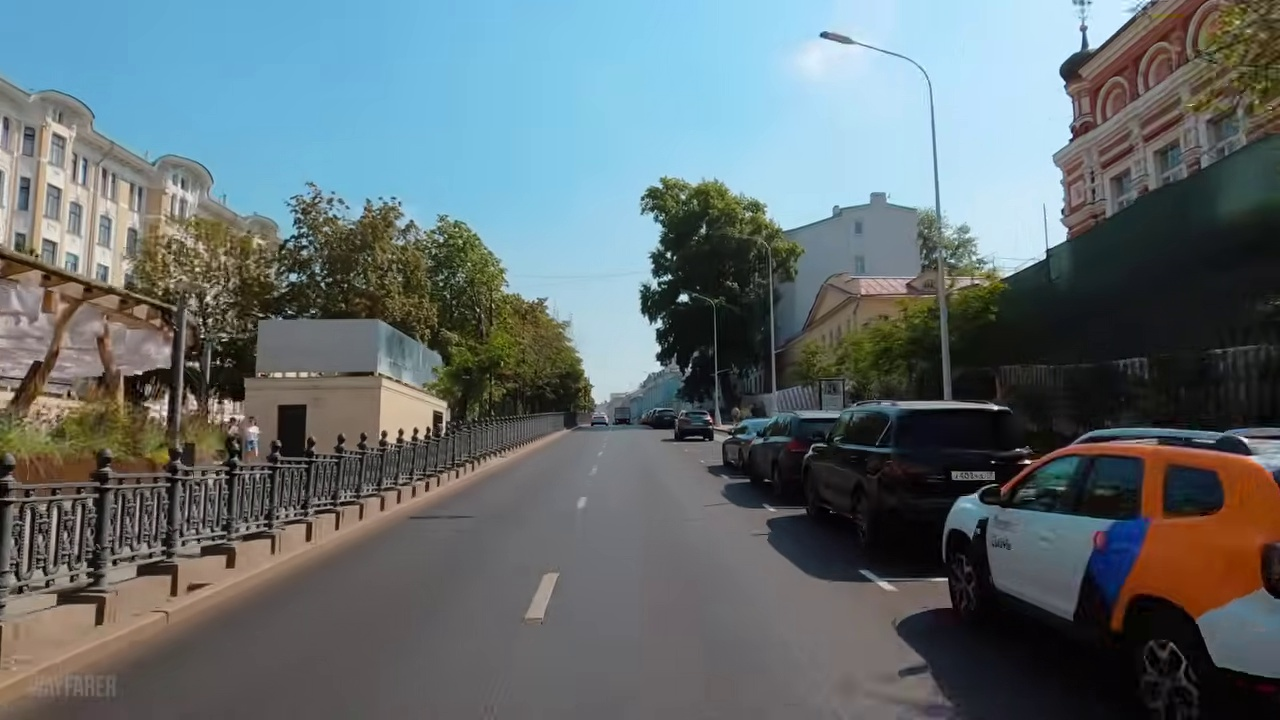apagada: (813, 25, 853, 53), (815, 25, 847, 47)
